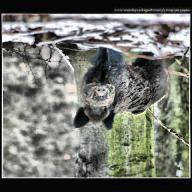boar: (71, 44, 171, 146)
